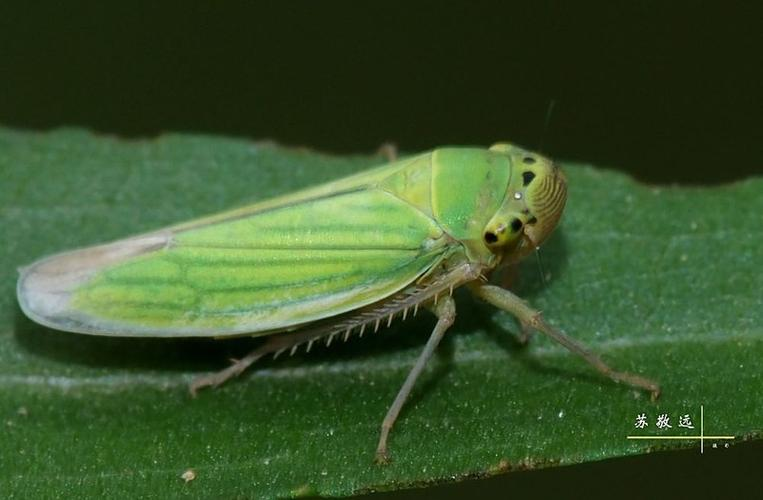Cicadellidae: (16, 140, 661, 458)
